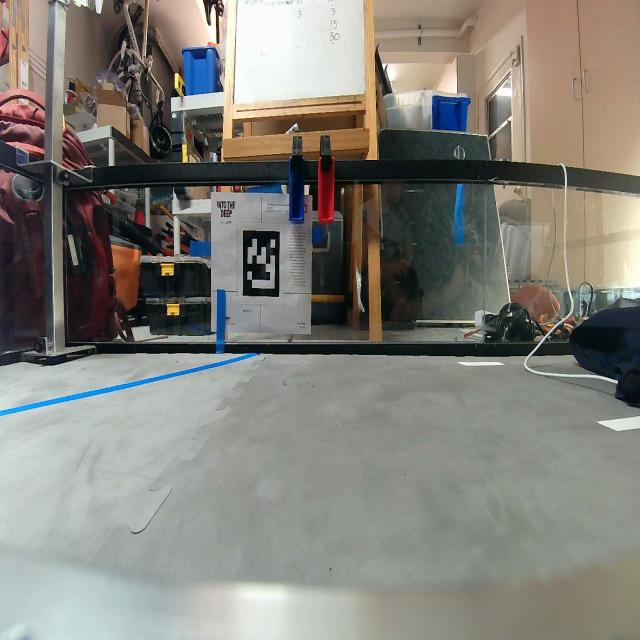specimen_block_blue: (289, 155, 307, 226)
specimen_block_red: (316, 153, 338, 230)
